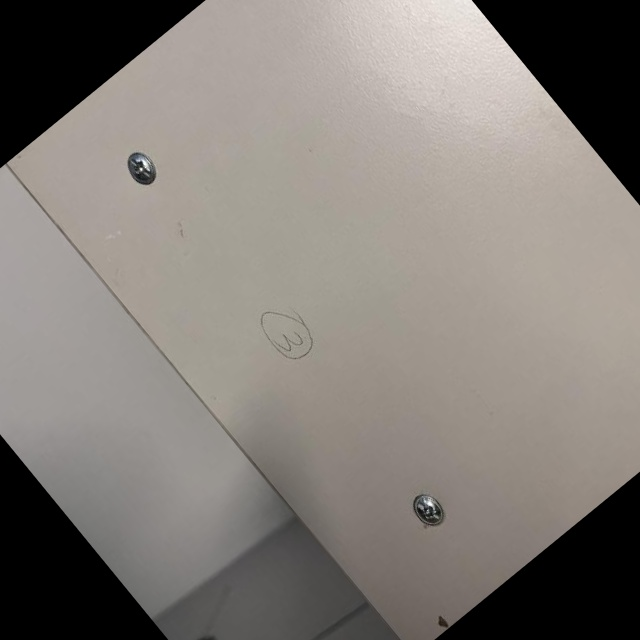pozidriv: (120, 146, 164, 191), (407, 488, 450, 532)
